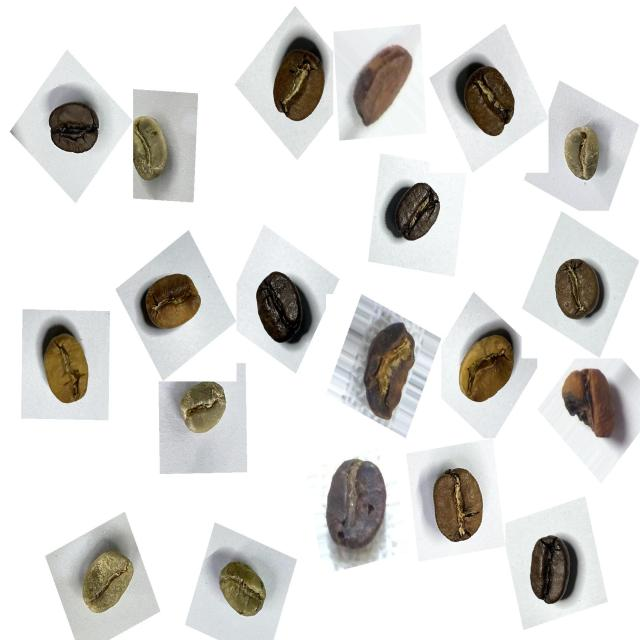bad: (317, 447, 398, 559), (352, 314, 428, 426), (344, 35, 419, 135), (554, 357, 630, 448)
dark: (247, 260, 320, 355), (519, 525, 588, 618), (380, 175, 449, 256), (41, 92, 110, 170)
green: (68, 537, 147, 630), (208, 550, 278, 634), (120, 105, 182, 193), (171, 376, 235, 448), (554, 118, 612, 193)
light: (452, 321, 526, 419), (31, 320, 103, 420)
medium: (261, 40, 337, 139), (420, 460, 496, 558), (453, 57, 526, 150), (134, 262, 210, 343), (543, 246, 612, 332)
